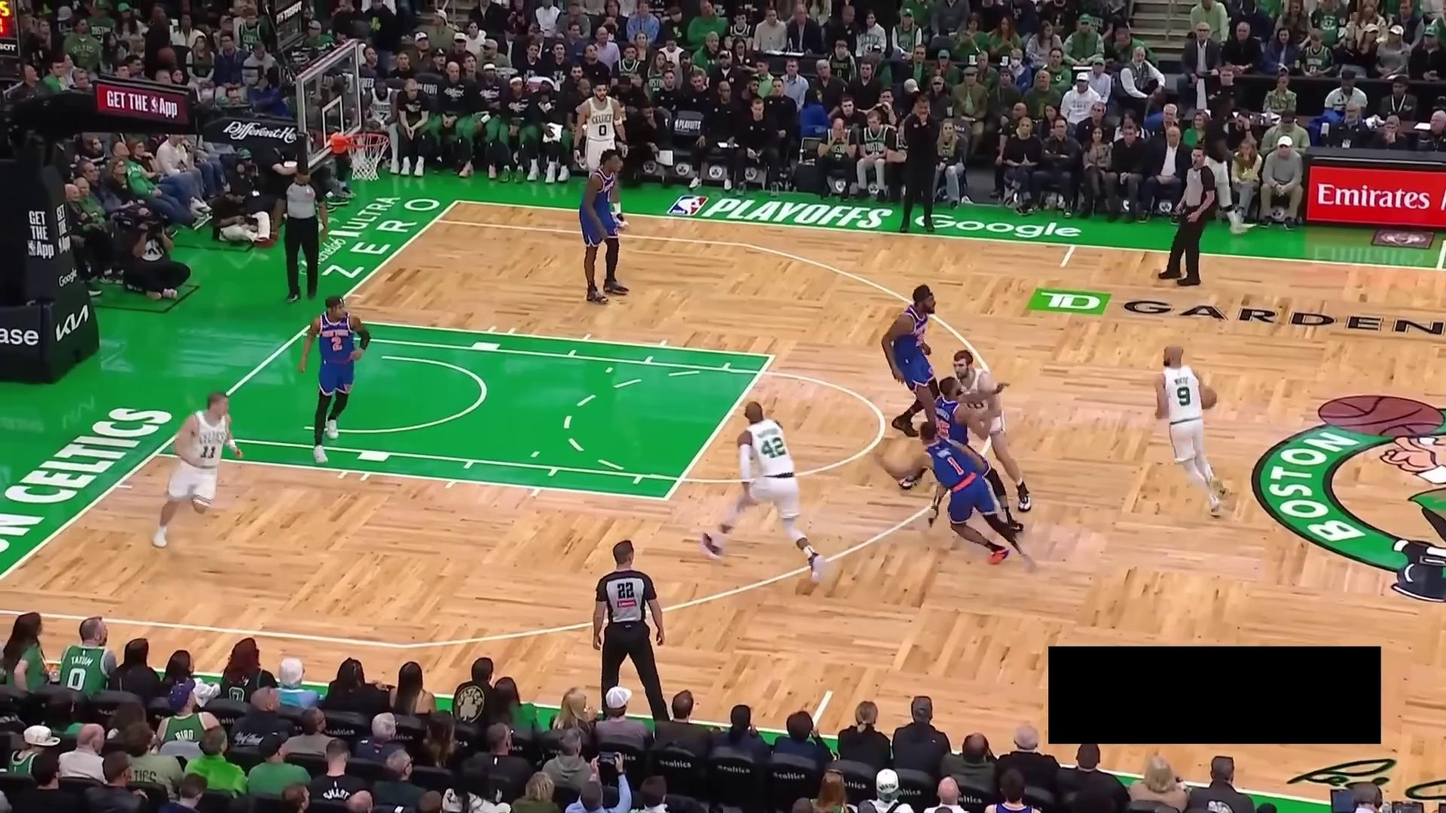ball: (1200, 384, 1220, 410)
number: (760, 435, 788, 462), (1175, 384, 1193, 409), (947, 455, 965, 475), (200, 444, 217, 460), (330, 335, 344, 351), (598, 122, 608, 137)
player: (870, 417, 1031, 571), (702, 400, 827, 588), (947, 347, 1035, 518), (151, 388, 240, 553), (925, 371, 1009, 531), (297, 294, 372, 468), (881, 285, 947, 447), (577, 145, 634, 305), (572, 81, 633, 230)
player-in-possession: (1152, 340, 1228, 516)
referee: (589, 538, 671, 718), (265, 165, 333, 300), (1154, 145, 1217, 287)
rim: (344, 130, 389, 152)
